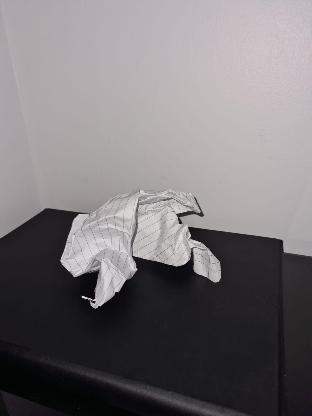Paper: (63, 194, 225, 292)
